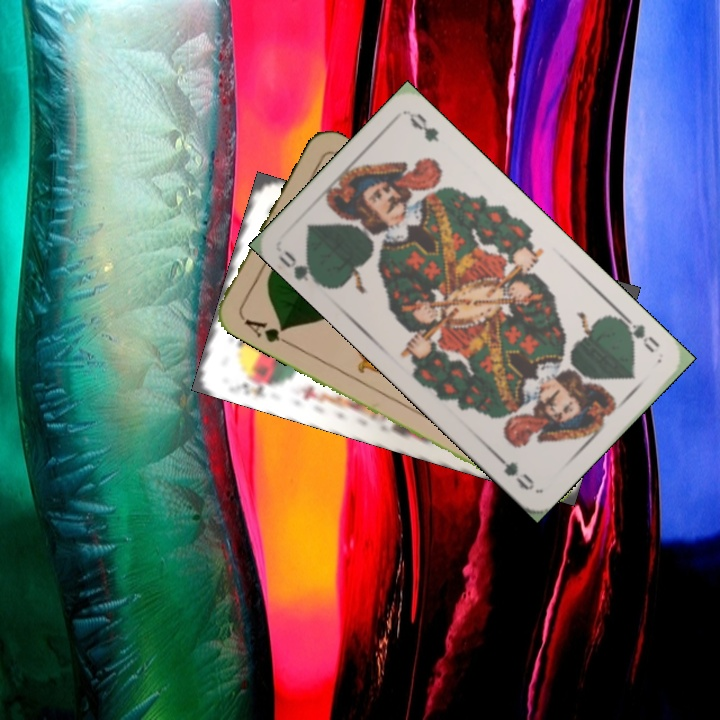GA: (237, 311, 292, 347)
GO: (275, 246, 326, 289), (615, 311, 663, 356)
SK: (229, 378, 268, 399)
